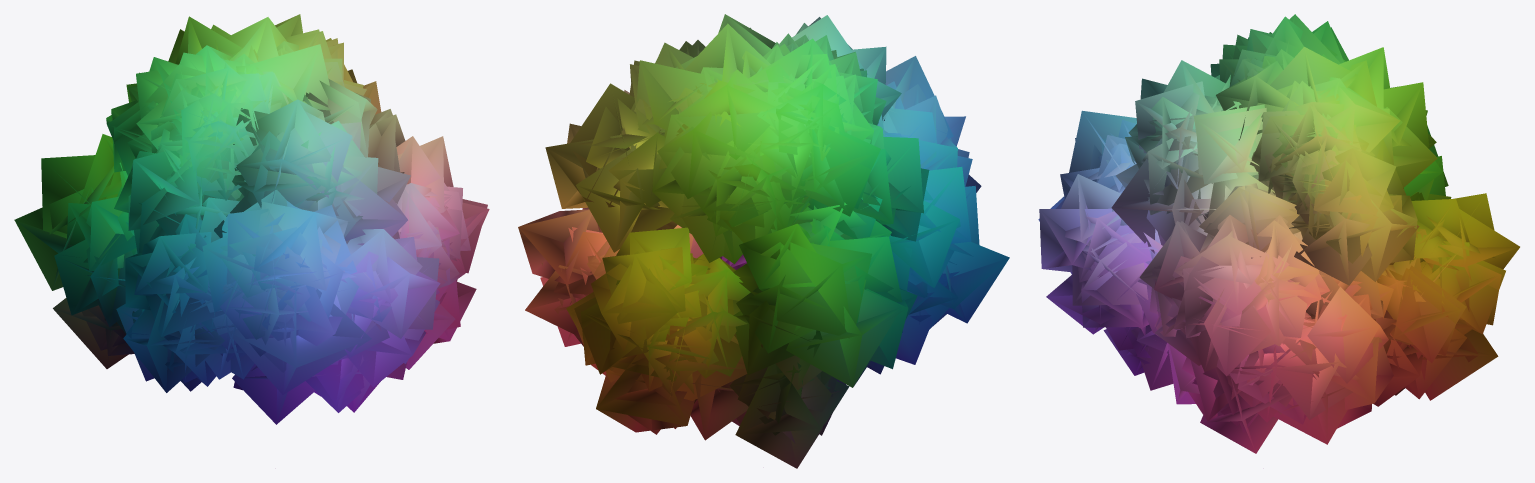
Rendered from Forest_plant_tree_084_a.fbx.
The picture shows the model from 3 angles, left to right: view 1: azimuth 30°, elevation 25°; view 2: azimuth 150°, elevation 25°; view 3: azimuth 270°, elevation 25°; orthographic projection. The views are drawn at different scales.
Visible parts, largest first — view 1: attribwrangle50; view 2: attribwrangle50; view 3: attribwrangle50.
Boxes of the visible parts, <box> form: attribwrangle50: <box>14,14,489,424</box>; attribwrangle50: <box>518,14,1009,468</box>; attribwrangle50: <box>1038,14,1519,453</box>.
Bounding box in the file's own units: 2535 × 2828 × 2882.
